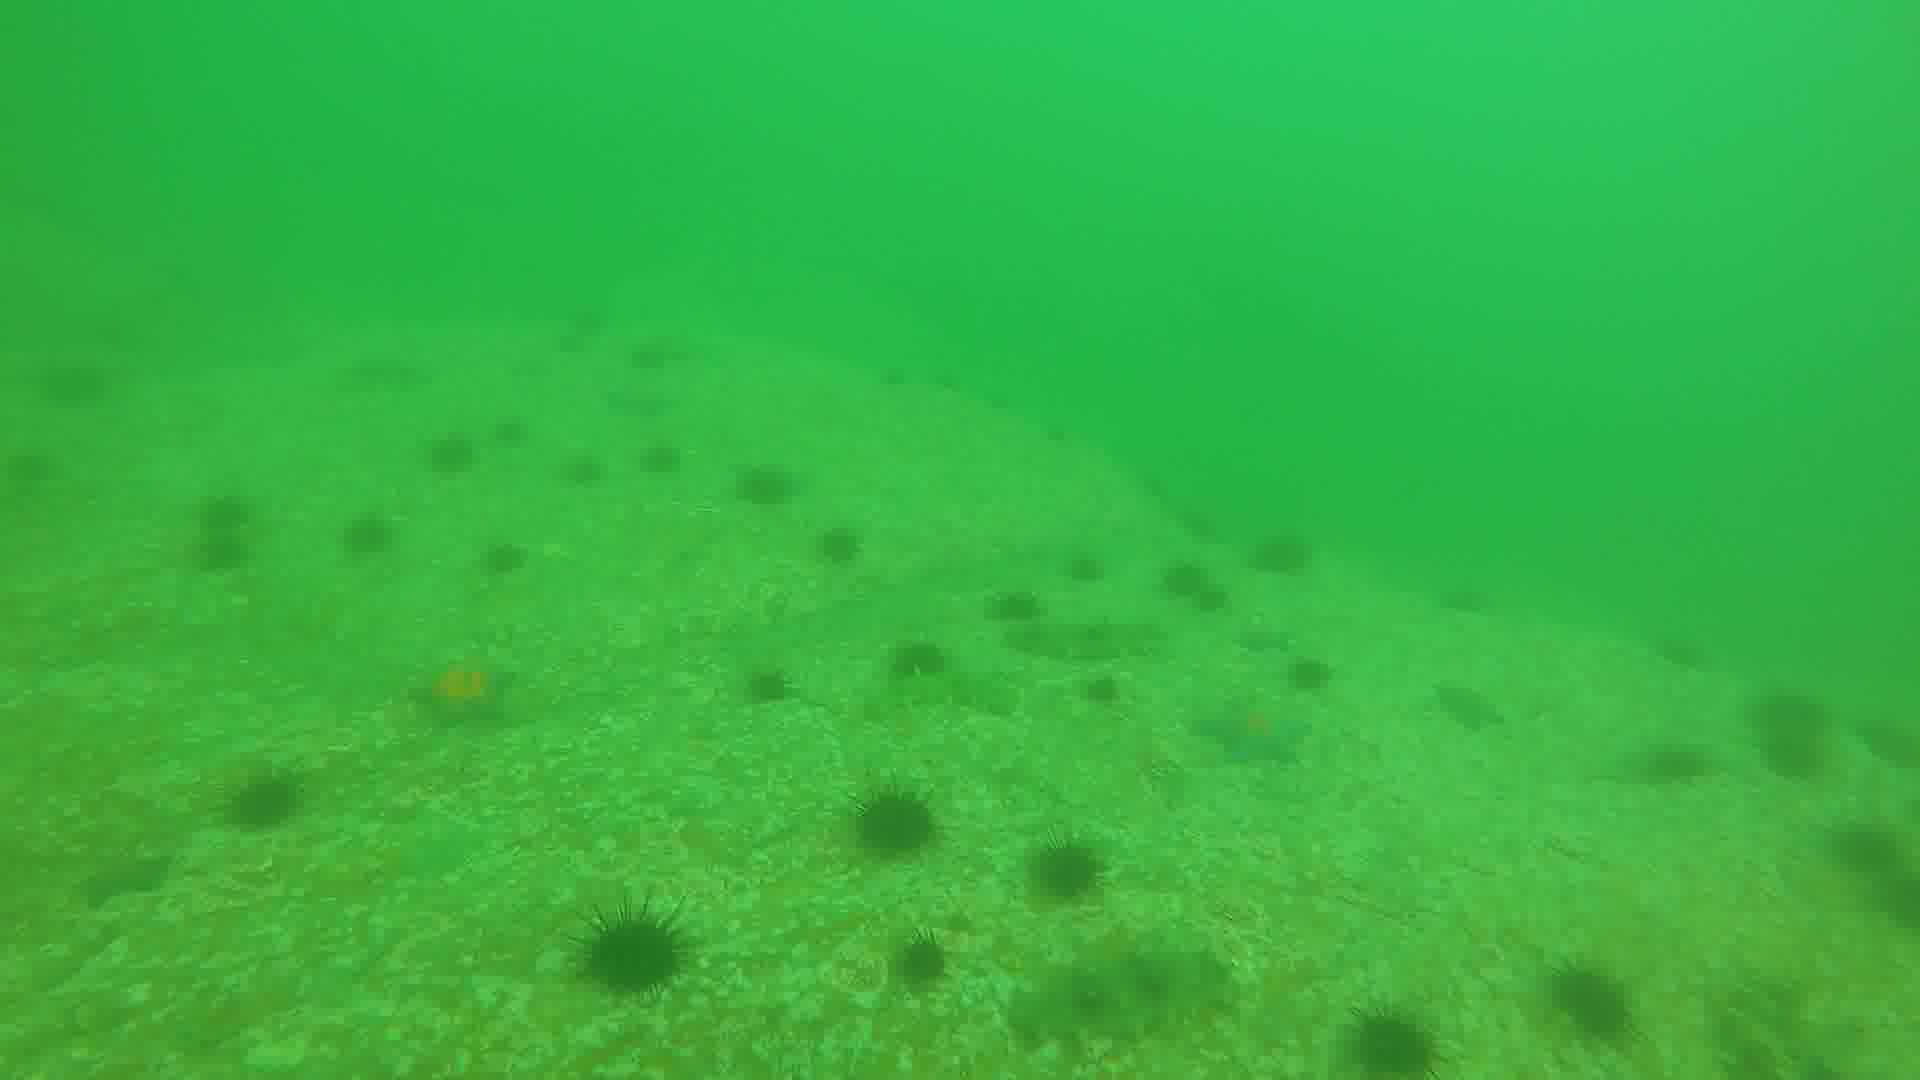echinus: (563, 893, 692, 994), (1542, 971, 1642, 1047), (855, 793, 942, 862), (1358, 1015, 1443, 1080), (1743, 678, 1830, 738), (1832, 820, 1916, 882), (1626, 738, 1720, 789), (1036, 839, 1110, 901), (1758, 723, 1834, 781), (738, 458, 812, 512), (1249, 527, 1320, 582), (222, 782, 302, 829), (895, 928, 953, 990), (988, 584, 1052, 626), (889, 644, 960, 680), (189, 530, 252, 570), (745, 662, 793, 712), (349, 516, 402, 559), (638, 443, 694, 484), (430, 439, 487, 477), (1287, 651, 1335, 696), (202, 495, 255, 534), (1160, 553, 1207, 593), (483, 407, 527, 446), (1189, 580, 1238, 615), (822, 524, 865, 562), (564, 451, 615, 483), (491, 541, 534, 575)
holothurian: (1010, 938, 1238, 1055), (1015, 612, 1153, 659)
starfish: (400, 651, 516, 735), (1191, 702, 1312, 773), (76, 839, 171, 913), (1420, 675, 1511, 736), (600, 375, 679, 425)
